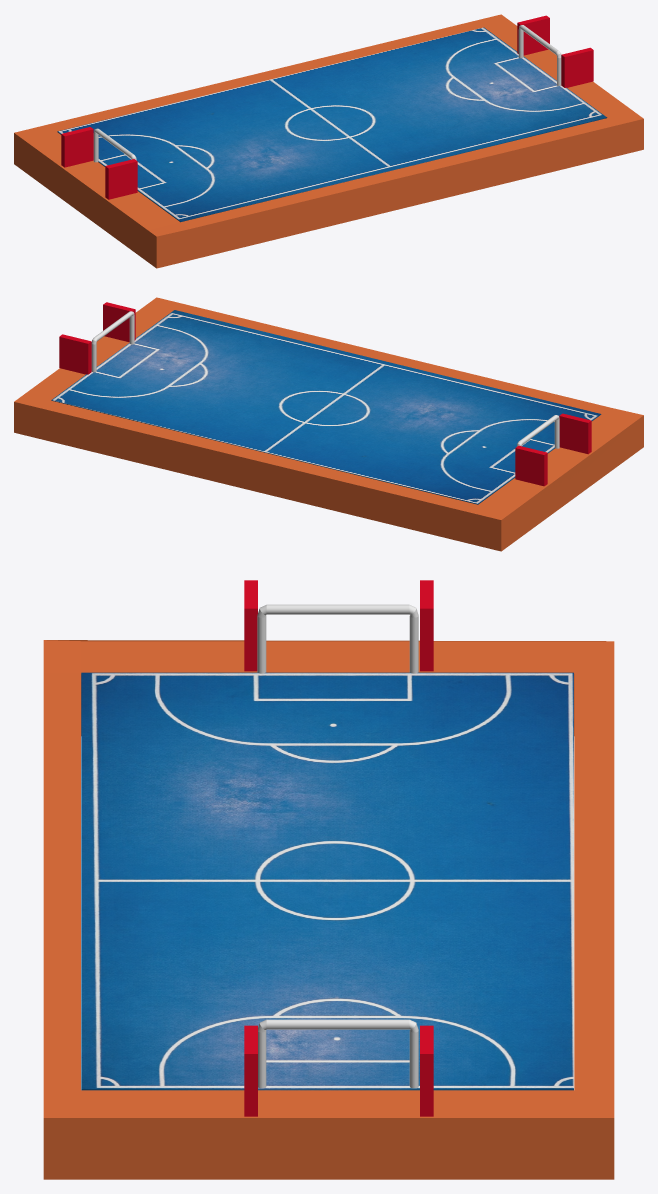
Rendered from field.fbx.
The picture shows the model from 3 angles, top to bottom: view 1: azimuth 30°, elevation 25°; view 2: azimuth 150°, elevation 25°; view 3: azimuth 270°, elevation 25°; orthographic projection. The views are drawn at different scales.
Parts seen in each view (by area): view 1: Field, OutField, wall.my.right, wall.my.left, wall.enemy.left, wall.enemy.right, enemyGoal, myGoal; view 2: Field, OutField, wall.my.left, wall.my.right, wall.enemy.right, wall.enemy.left, enemyGoal, myGoal; view 3: Field, OutField, myGoal, enemyGoal, wall.enemy.right, wall.enemy.left, wall.my.left, wall.my.right.
Boxes of the visible parts, x1,y1,x2,y2 form: Field: (57, 27, 607, 222); OutField: (14, 14, 643, 268); wall.my.right: (105, 159, 137, 199); wall.my.left: (61, 127, 93, 167); wall.enemy.left: (561, 47, 593, 87); wall.enemy.right: (517, 15, 549, 55); enemyGoal: (518, 25, 561, 85); myGoal: (93, 128, 136, 162); Field: (51, 310, 601, 504); OutField: (14, 297, 643, 551); wall.my.left: (515, 445, 547, 486); wall.my.right: (559, 413, 591, 454); wall.enemy.right: (59, 334, 91, 374); wall.enemy.left: (103, 302, 135, 342); enemyGoal: (91, 311, 134, 372); myGoal: (516, 415, 559, 448); Field: (81, 672, 573, 1090); OutField: (43, 640, 614, 1179); myGoal: (257, 604, 418, 673); enemyGoal: (258, 1019, 418, 1088); wall.enemy.right: (420, 1025, 433, 1116); wall.enemy.left: (244, 1025, 257, 1116); wall.my.left: (420, 580, 433, 671); wall.my.right: (244, 580, 257, 671).
Size of what is drawn, in the model's own units: 338 by 43.19 by 171.
3 materials, 1 textured.
